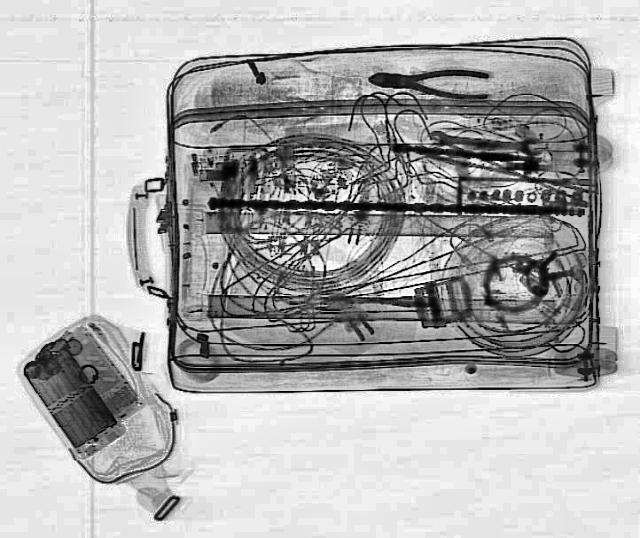Pliers: (365, 61, 489, 99)
Wrench: (428, 127, 542, 155)
